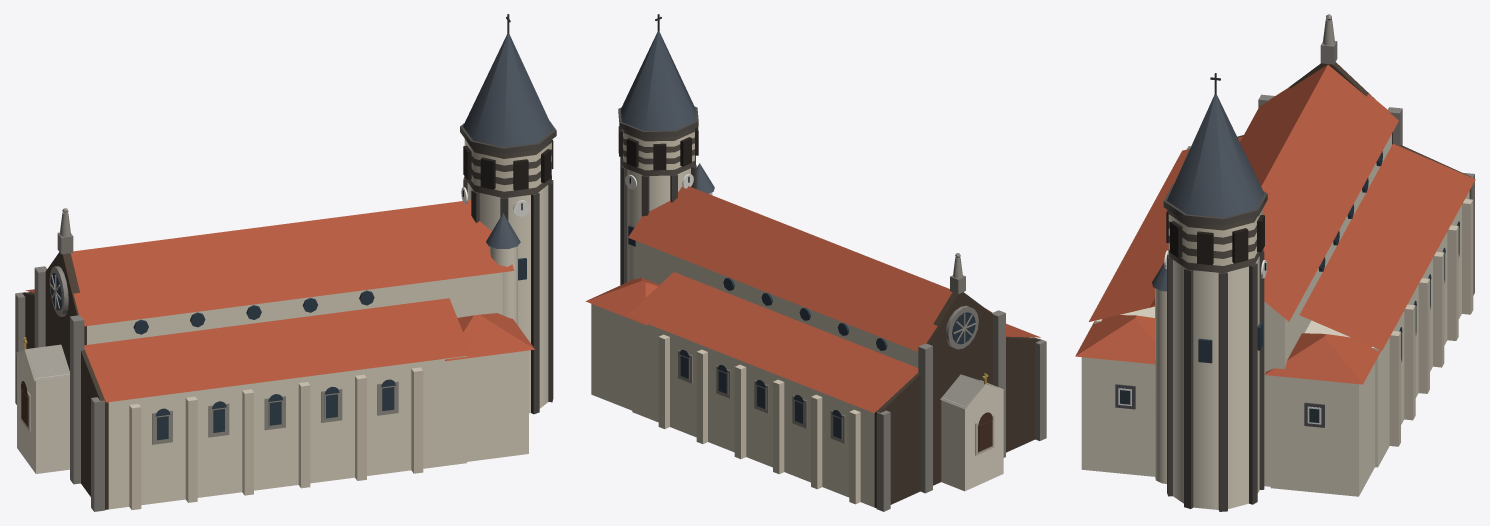
The model's file is eglise.glb.
3 views of the same model, side by side, from view 1: azimuth 30°, elevation 25°; view 2: azimuth 150°, elevation 25°; view 3: azimuth 270°, elevation 25° (orthographic). The views are drawn at different scales.
Size of the model in its own units: 39.06 by 30.2 by 26.24.
